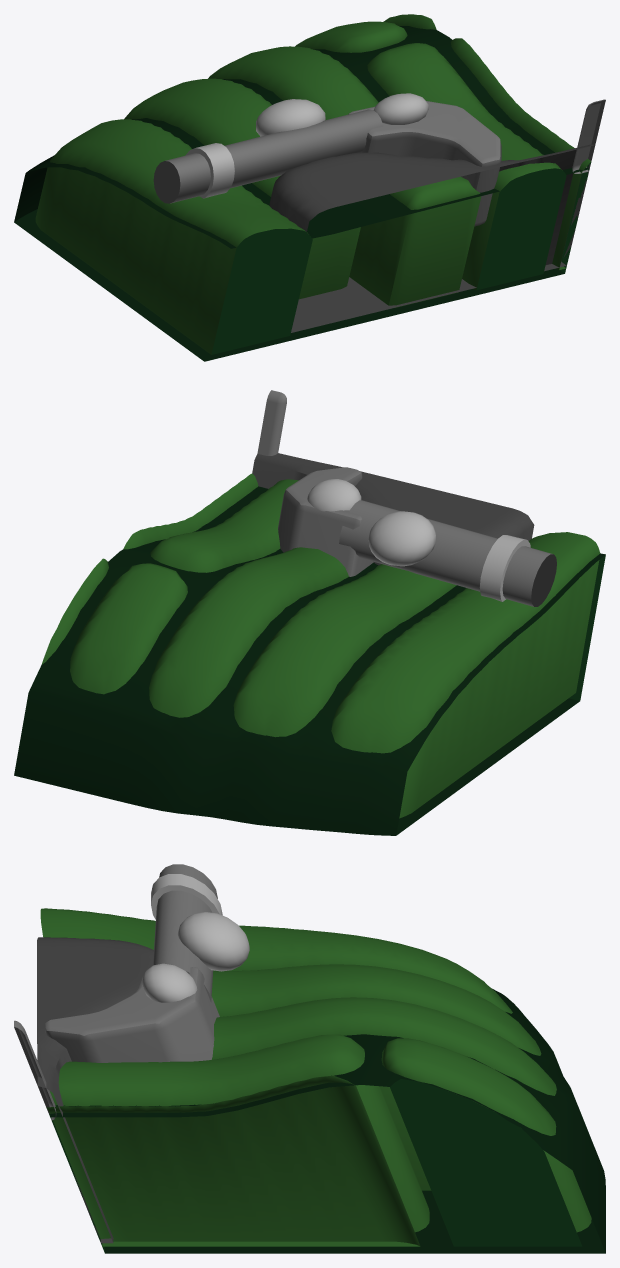
The model's file is green_shell_155.glb.
The picture shows the model from 3 angles, top to bottom: view 1: azimuth 30°, elevation 25°; view 2: azimuth 150°, elevation 25°; view 3: azimuth 270°, elevation 25°; orthographic projection. The views are drawn at different scales.
Visible parts, largest first — view 1: green_shell_155; view 2: green_shell_155; view 3: green_shell_155.
Part boxes in pixels (x1,y1,x2,y2): green_shell_155: [14, 14, 605, 361]; green_shell_155: [14, 390, 605, 835]; green_shell_155: [14, 864, 605, 1253].
Bounding box in the file's own units: 24 × 12.97 × 30.72.
